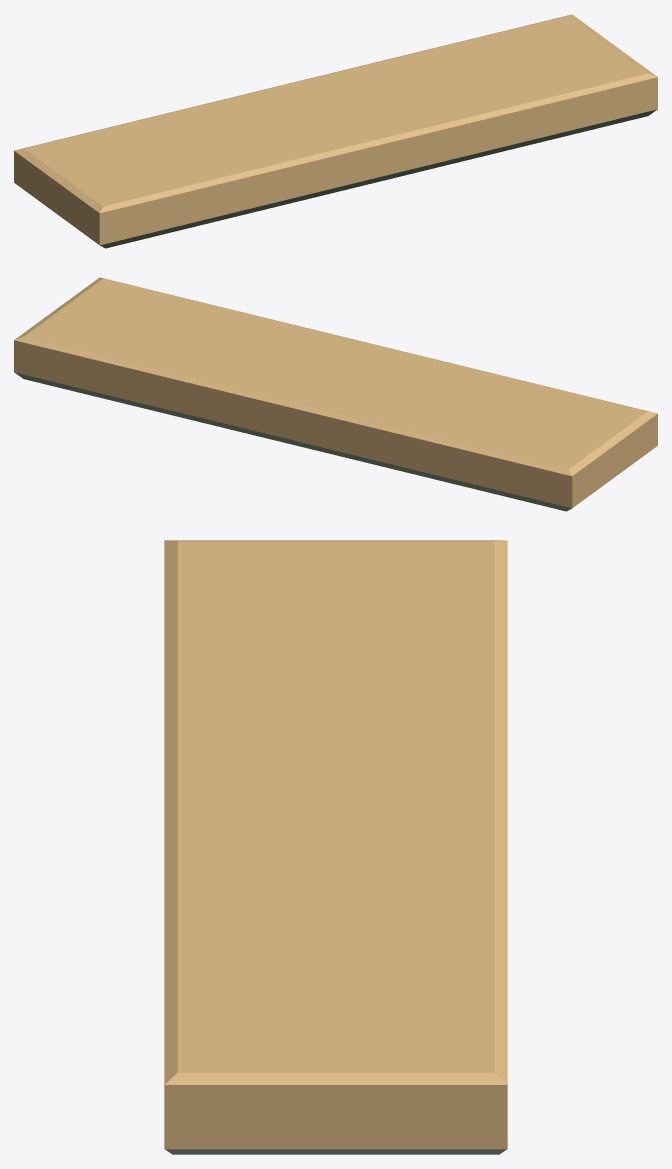
File: Plank_0.glb
3 views of the same model, one above another, from view 1: azimuth 30°, elevation 25°; view 2: azimuth 150°, elevation 25°; view 3: azimuth 270°, elevation 25° (orthographic). The views are drawn at different scales.
Parts seen in each view (by area): view 1: BoringPLank; view 2: BoringPLank; view 3: BoringPLank.
Boxes of the visible parts, x1,y1,x2,y2 form: BoringPLank: (14,14,657,248); BoringPLank: (14,277,657,511); BoringPLank: (164,540,507,1154).
Bounding box in the file's own units: 1 × 0.0709 × 0.2661.
